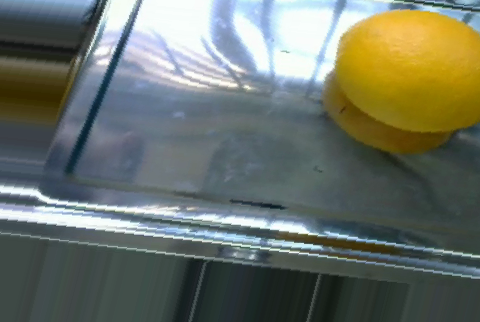Orange: (336, 7, 480, 133)
